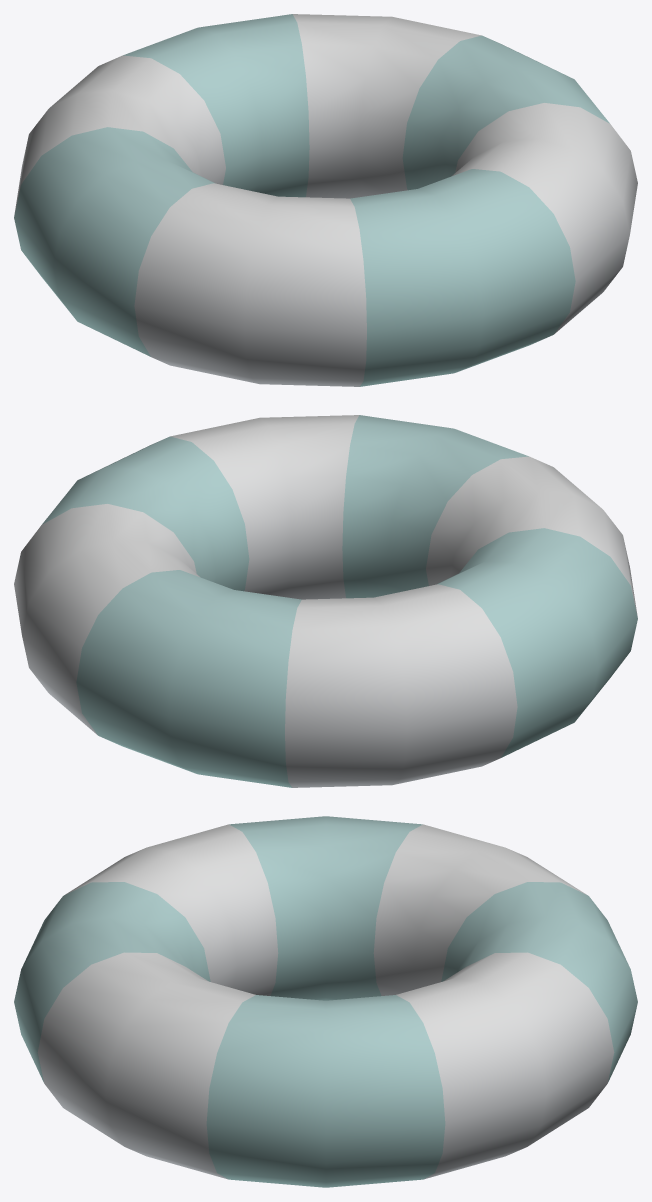
File: pool-swimming-ring-striped.glb
3 views of the same model, one above another, from view 1: azimuth 30°, elevation 25°; view 2: azimuth 150°, elevation 25°; view 3: azimuth 270°, elevation 25° (orthographic).
Visible parts, largest first — view 1: pool-swimming-ring-striped; view 2: pool-swimming-ring-striped; view 3: pool-swimming-ring-striped.
Part boxes in pixels (left/top/right/bottom): pool-swimming-ring-striped: left=14, top=14, right=637, bottom=386; pool-swimming-ring-striped: left=14, top=415, right=637, bottom=787; pool-swimming-ring-striped: left=14, top=816, right=637, bottom=1187.
Size of the model in its own units: 0.78 by 0.234 by 0.78.
